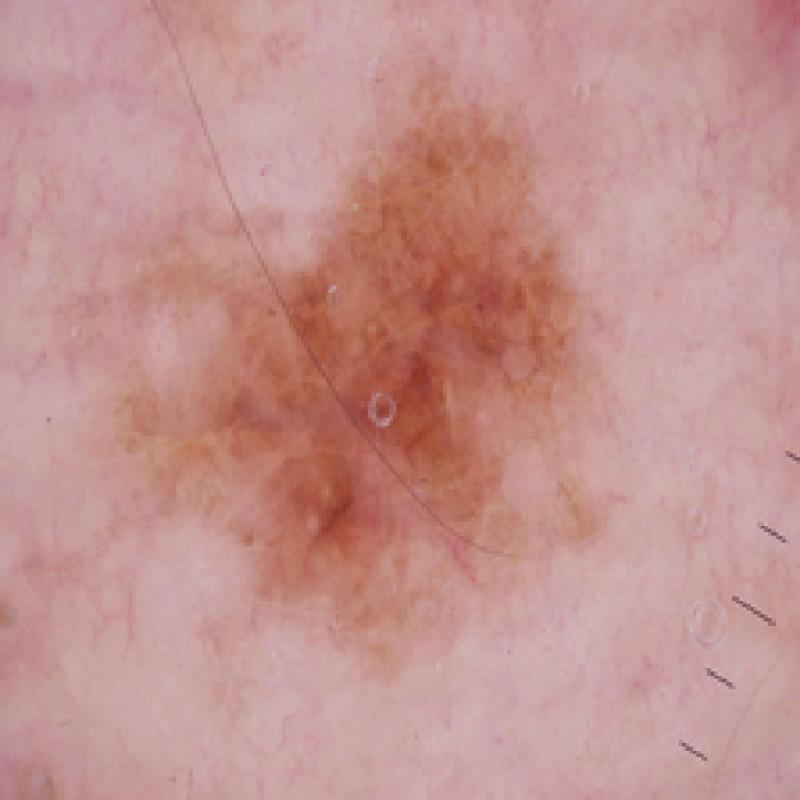benign: (158, 70, 664, 666)
